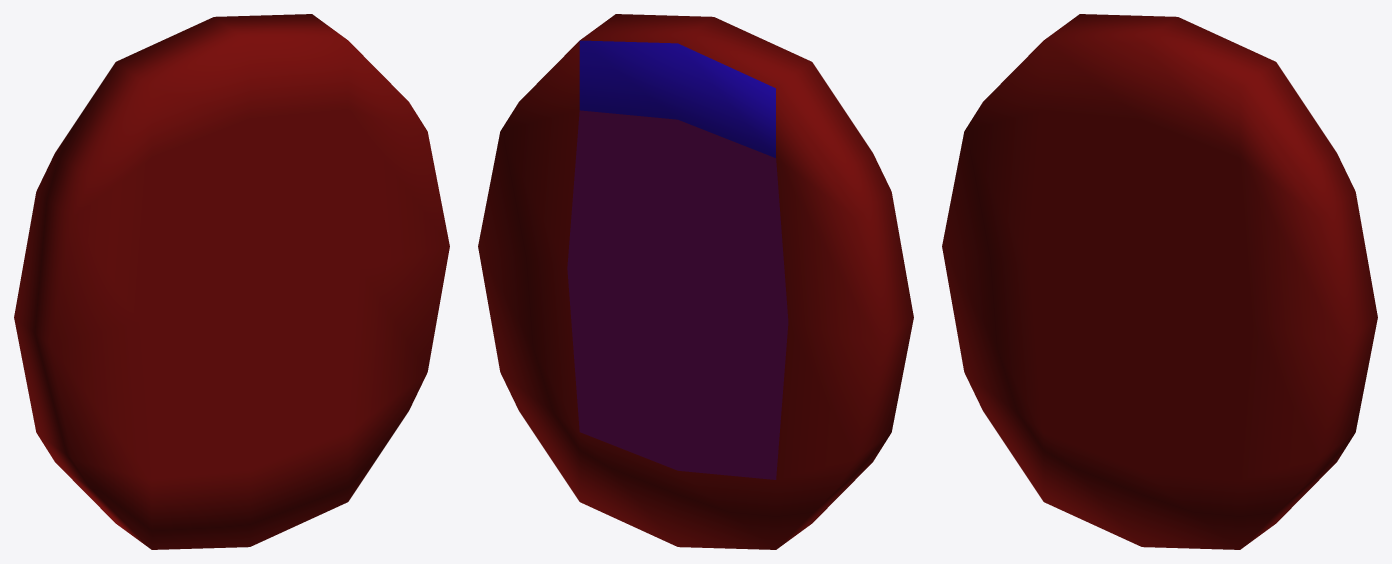
File: ShieldSmall.dae
3 views of the same model, side by side, from view 1: azimuth 30°, elevation 25°; view 2: azimuth 150°, elevation 25°; view 3: azimuth 330°, elevation 25° (orthographic).
Parts seen in each view (by area): view 1: ShieldSmall; view 2: ShieldSmall; view 3: ShieldSmall.
Boxes of the visible parts, box(x1,y1,x2,y2) form: ShieldSmall: box(14, 14, 449, 549); ShieldSmall: box(478, 14, 913, 549); ShieldSmall: box(942, 14, 1377, 549).
Bounding box in the file's own units: 0.3209 × 0.0503 × 0.3864.
